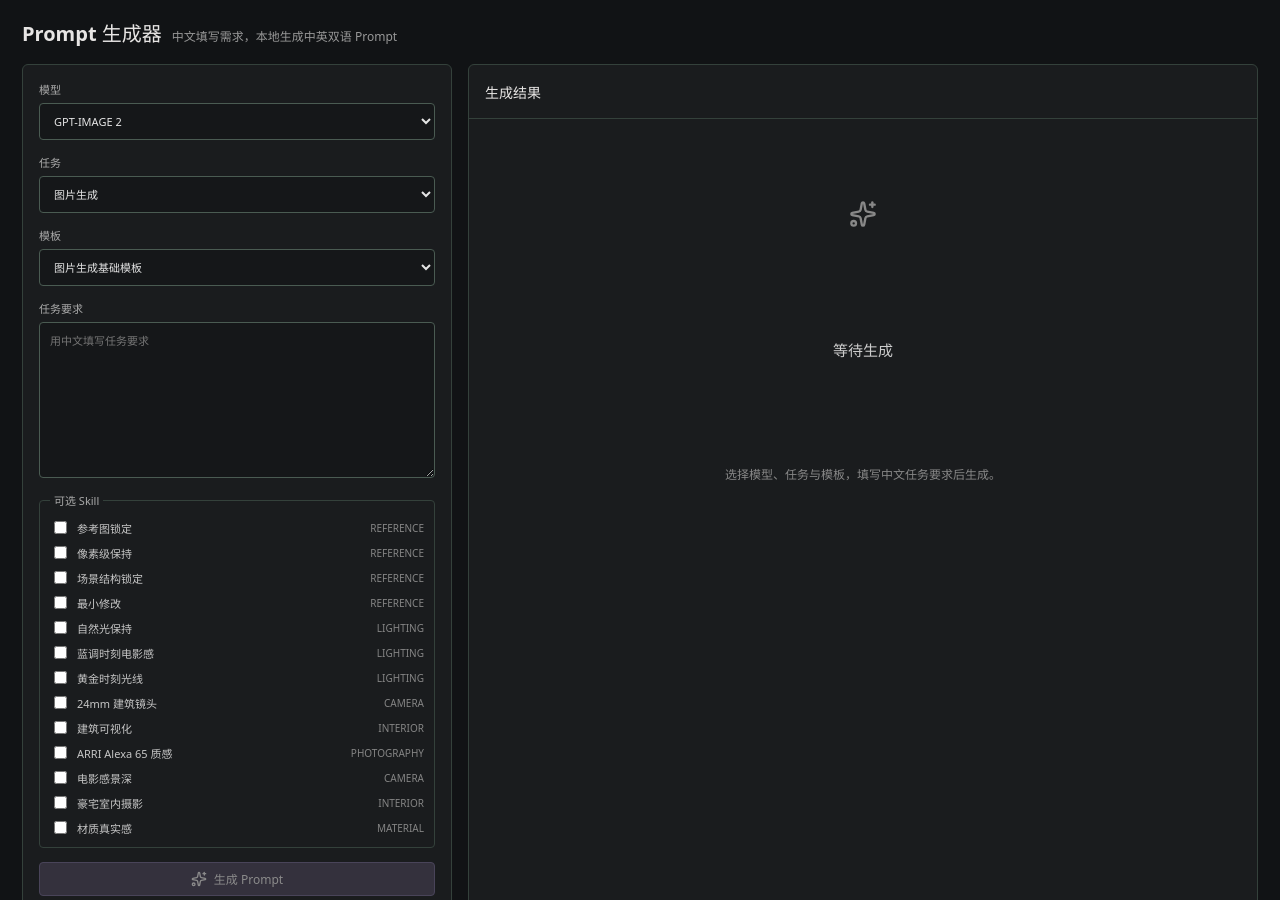
GeneratorPage › cascades model to task selection and filters incompatible Skills
Expected: the checkbox labelled "参考图锁定" is shown, [54,521,67,534]
Step 1. Select "Kling 3.0" in the dropdown labelled "模型" → (237, 122), box [39,103,435,140]
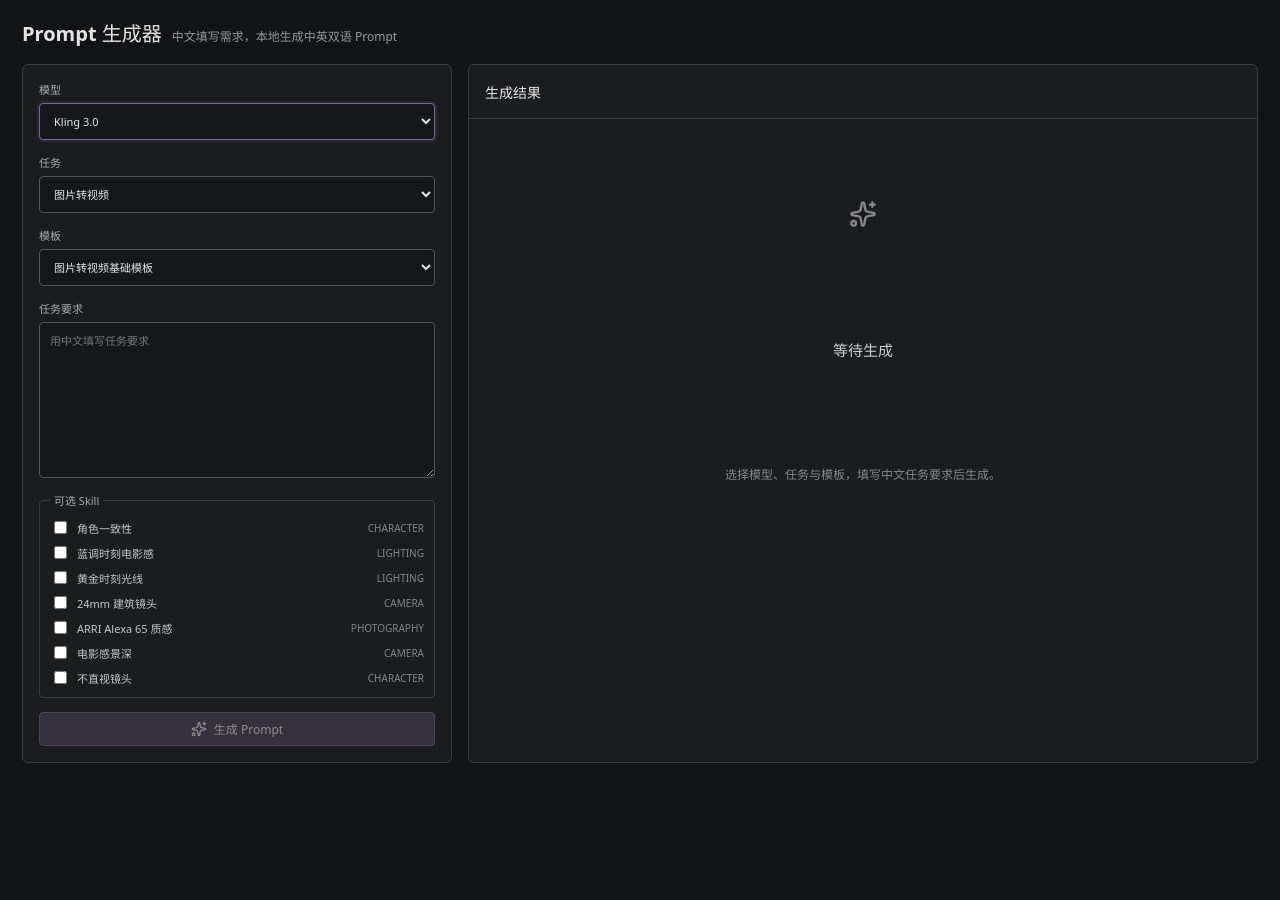
Expected: the label labelled "参考图锁定" is gone
